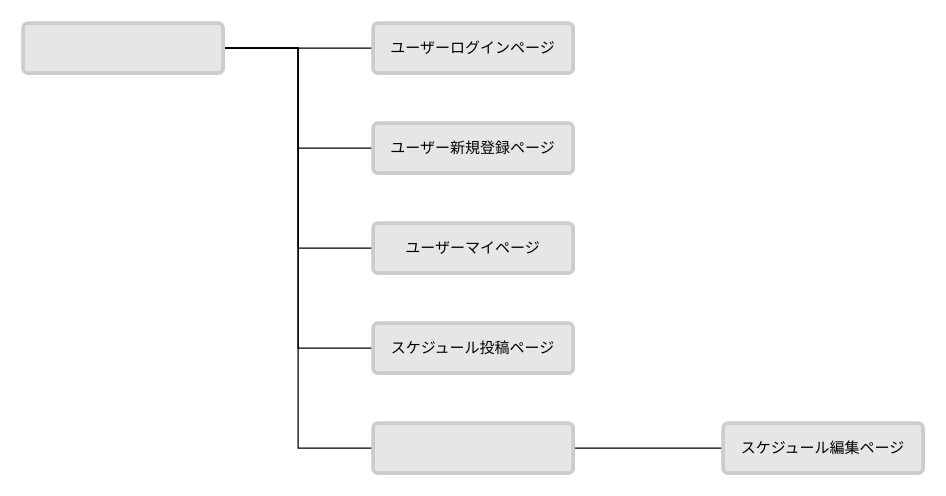
This 946x496 diagram has some shape labels left out. Here are the shapes that lost their labels. From the top down, the box of each, then its label:
(21, 21, 224, 74): トップページ
(371, 421, 574, 474): スケジュール詳細ページ
